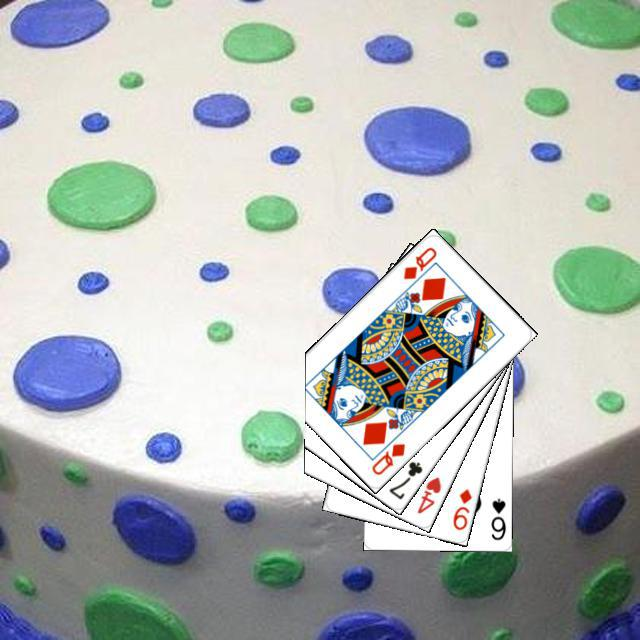4h: (412, 472, 443, 515)
6s: (486, 494, 507, 541)
7c: (384, 456, 424, 501)
9d: (448, 484, 474, 532)
Qd: (367, 438, 407, 477), (398, 242, 438, 281)
